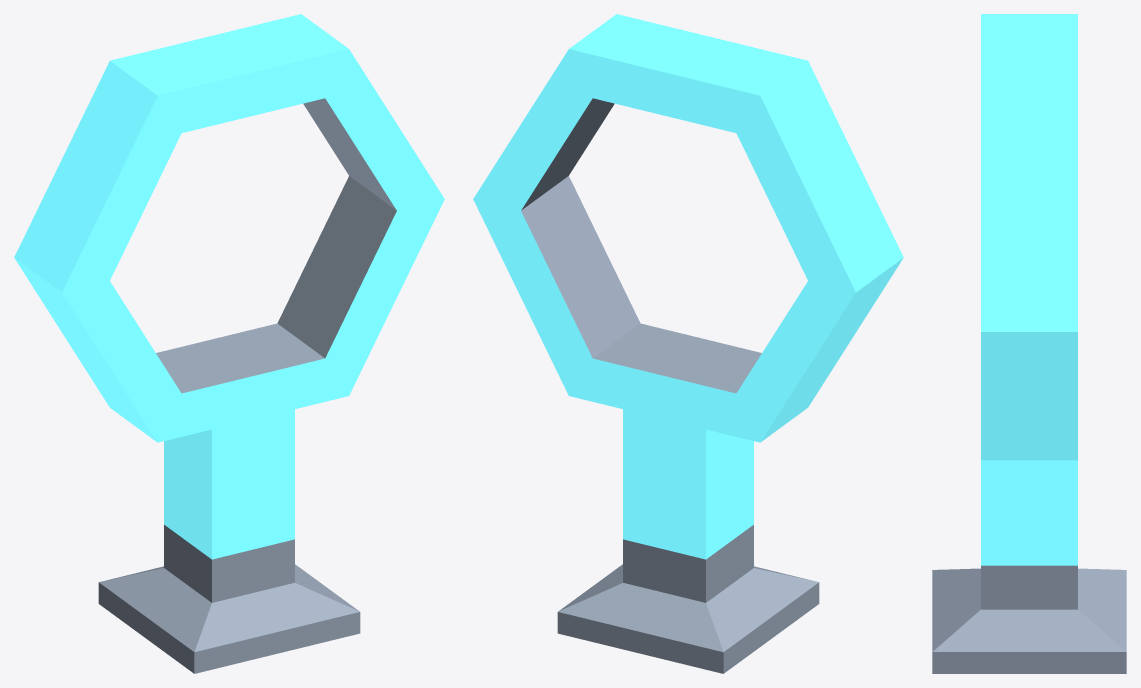
The model's file is pipe_ringSupport.glb.
3 views of the same model, side by side, from view 1: azimuth 30°, elevation 25°; view 2: azimuth 150°, elevation 25°; view 3: azimuth 270°, elevation 25° (orthographic).
Visible parts, largest first — view 1: pipe_ringSupport; view 2: pipe_ringSupport; view 3: pipe_ringSupport.
Part boxes in pixels (x1,y1,x2,y2): pipe_ringSupport: (14,14,444,673); pipe_ringSupport: (473,14,903,673); pipe_ringSupport: (932,14,1126,673).
Bounding box in the file's own units: 0.9238 × 1.3 × 0.4.
